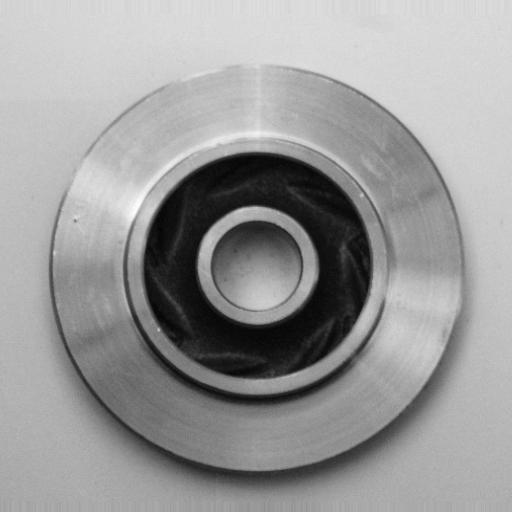unpolished_casting: (43, 59, 471, 477)
